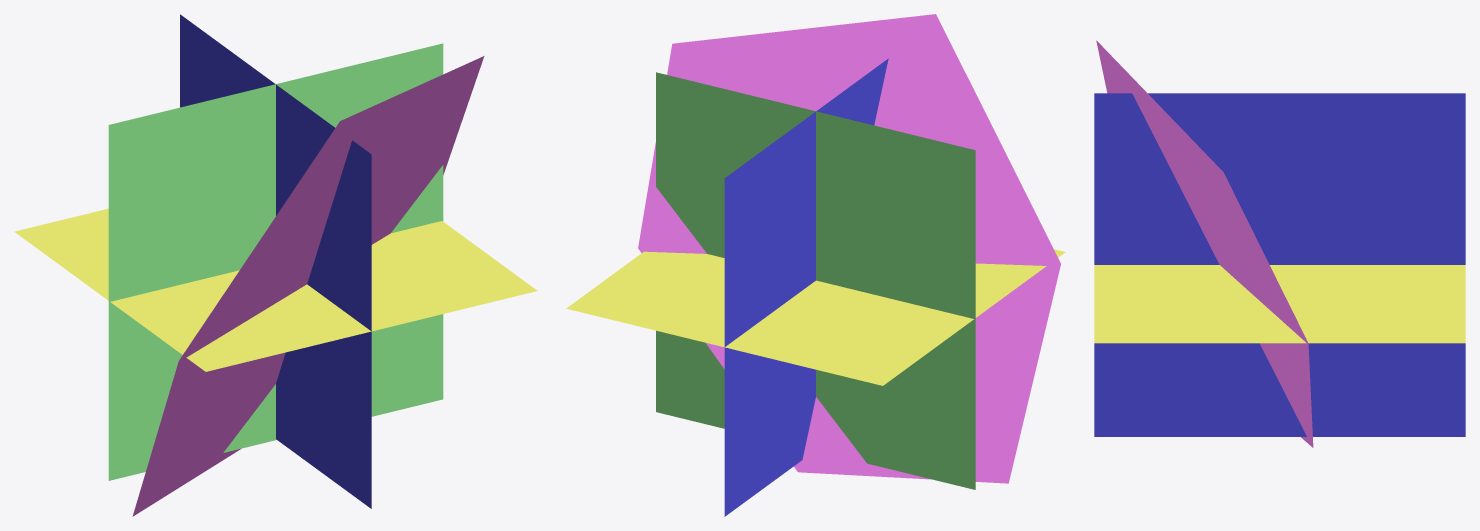
The picture shows the model from 3 angles, left to right: view 1: azimuth 30°, elevation 25°; view 2: azimuth 150°, elevation 25°; view 3: azimuth 270°, elevation 25°; orthographic projection. The views are drawn at different scales.
Parts seen in each view (by area): view 1: 5990b5fd-85cc-4398-b30c-b27c81cfbb24; view 2: 5990b5fd-85cc-4398-b30c-b27c81cfbb24; view 3: 5990b5fd-85cc-4398-b30c-b27c81cfbb24.
Boxes of the visible parts, x1,y1,x2,y2 form: 5990b5fd-85cc-4398-b30c-b27c81cfbb24: (14,14,537,516); 5990b5fd-85cc-4398-b30c-b27c81cfbb24: (566,14,1065,516); 5990b5fd-85cc-4398-b30c-b27c81cfbb24: (1094,40,1465,447).
Size of the model in its own units: 0.0329 by 0.0361 by 0.0306.
